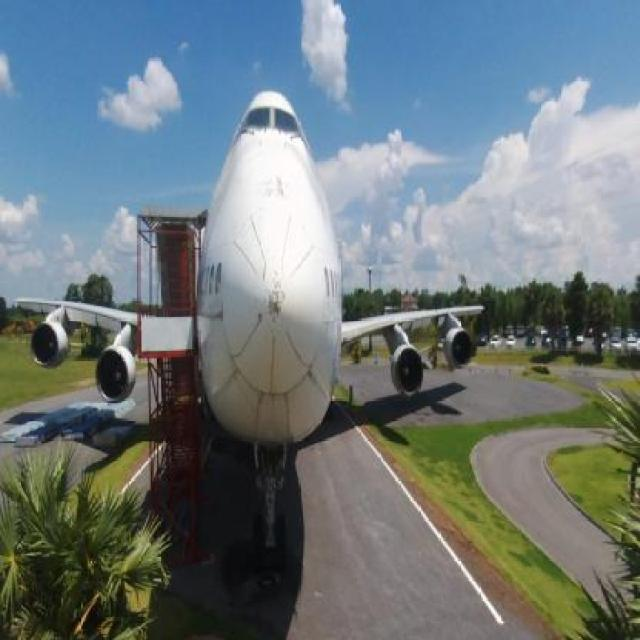Rust: (264, 288, 288, 328)
Scartch: (253, 258, 302, 352), (254, 160, 300, 211), (214, 302, 240, 338)
